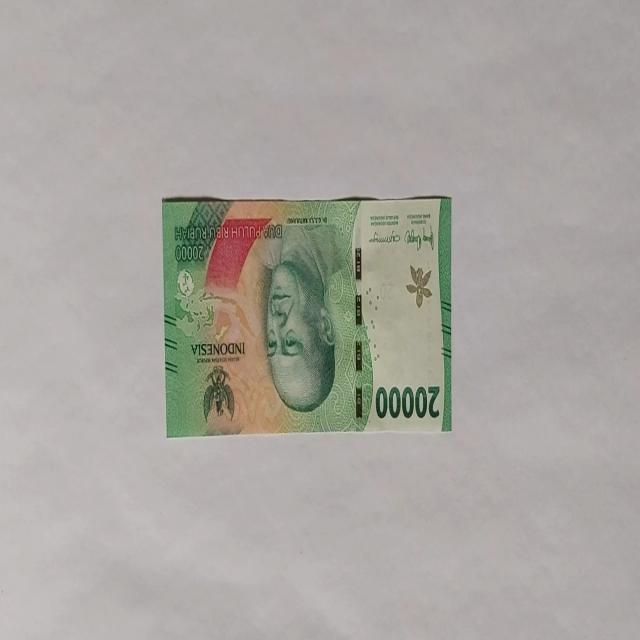dua puluh ribu rupiah: (162, 194, 452, 436), (256, 220, 344, 414)
